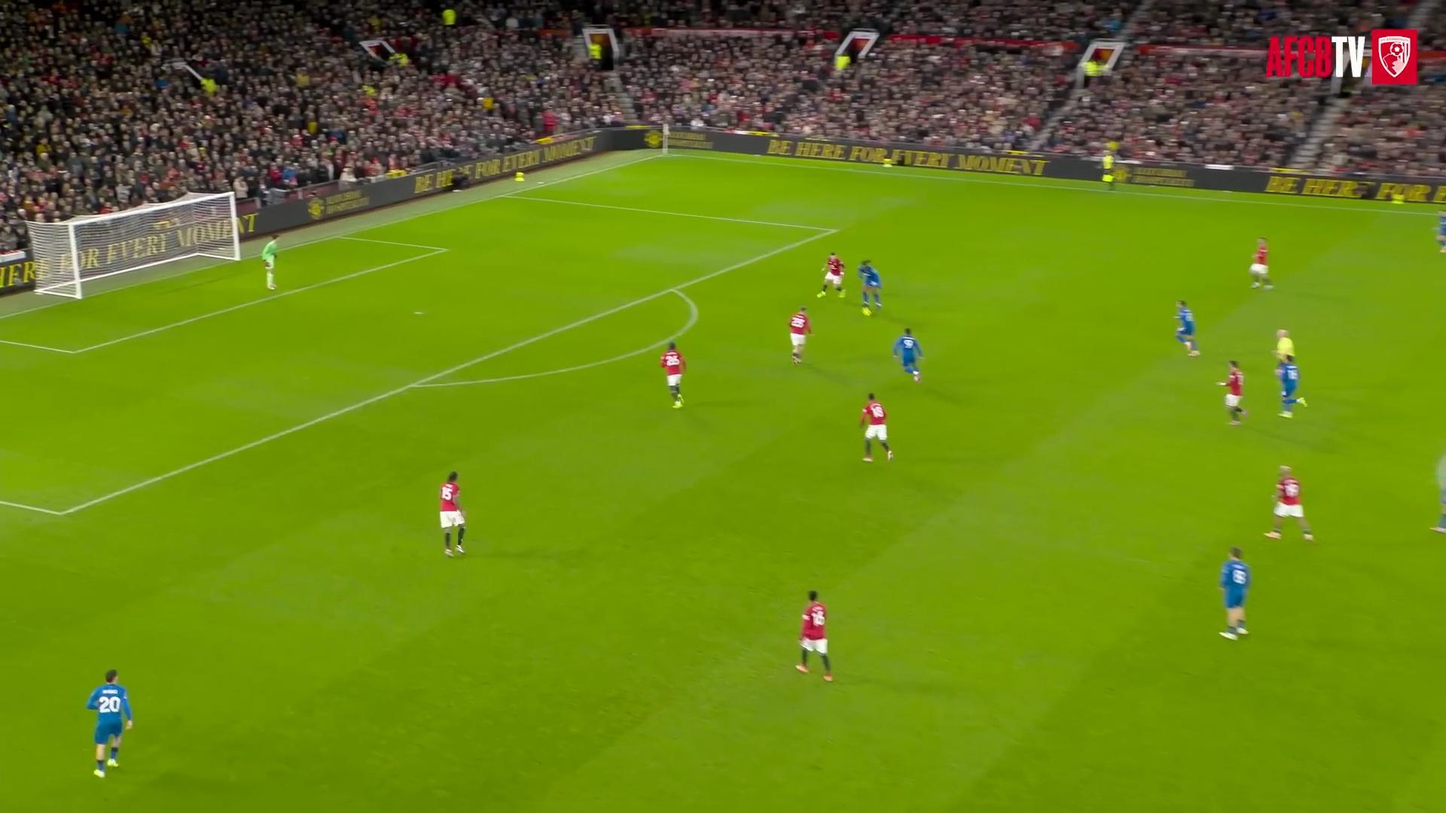player: (86, 670, 133, 778), (1265, 466, 1313, 540), (796, 590, 831, 681), (1220, 547, 1250, 639), (861, 392, 893, 461), (440, 472, 465, 556), (1277, 355, 1307, 417), (1219, 360, 1246, 425), (892, 328, 923, 382), (660, 341, 685, 407), (789, 307, 812, 364), (1176, 300, 1199, 356), (817, 252, 845, 297), (858, 259, 880, 315), (1431, 457, 1446, 534), (1249, 238, 1272, 288), (261, 234, 278, 290), (1436, 209, 1445, 252)
referee: (1101, 147, 1116, 196), (1274, 329, 1295, 361)
